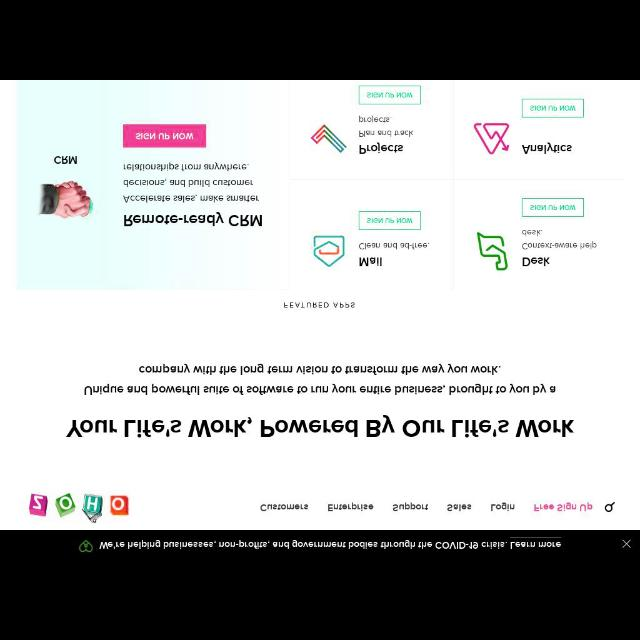icon: (80, 538, 92, 552), (604, 500, 614, 512), (622, 536, 630, 548)
iframe: (1, 530, 636, 558)
image: (27, 488, 131, 522), (37, 180, 95, 220), (474, 120, 511, 158), (310, 121, 350, 155), (477, 232, 509, 270), (312, 234, 346, 266)
text: (84, 362, 556, 396), (66, 418, 574, 438), (123, 162, 259, 204), (99, 540, 508, 550), (123, 212, 265, 228), (522, 228, 598, 252), (358, 116, 414, 138), (284, 300, 356, 310), (138, 130, 194, 142), (509, 538, 563, 550), (259, 501, 309, 513), (534, 502, 594, 512), (359, 242, 429, 250), (364, 90, 414, 100), (522, 144, 572, 154), (328, 502, 374, 512), (367, 215, 413, 225), (359, 144, 405, 154), (530, 104, 576, 114), (393, 502, 431, 512), (530, 203, 576, 211), (358, 258, 386, 268), (56, 154, 78, 166), (523, 256, 549, 266), (447, 503, 473, 512), (490, 503, 514, 511)
textbutton: (124, 122, 206, 150), (357, 82, 423, 108), (522, 98, 584, 120), (522, 196, 582, 218), (361, 210, 422, 230)
